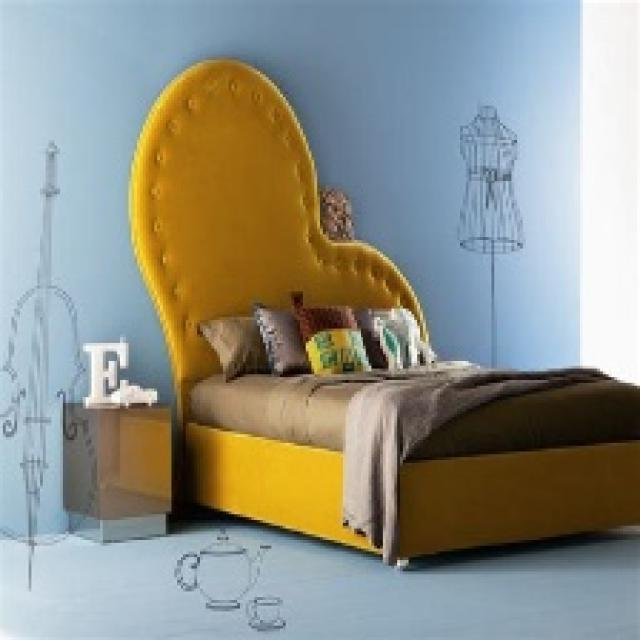Bed: (126, 57, 637, 569)
